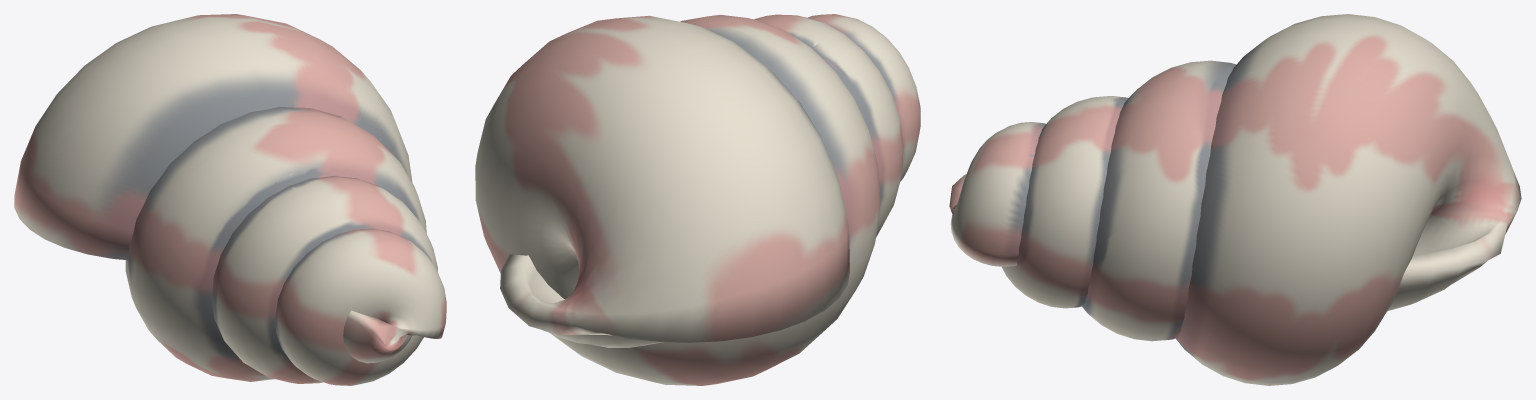
File: concha.fbx
The picture shows the model from 3 angles, left to right: view 1: azimuth 30°, elevation 25°; view 2: azimuth 150°, elevation 25°; view 3: azimuth 270°, elevation 25°; orthographic projection. The views are drawn at different scales.
Visible parts, largest first — view 1: Plane.002; view 2: Plane.002; view 3: Plane.002.
Boxes of the visible parts, <box> form: Plane.002: <box>14,14,446,385</box>; Plane.002: <box>475,14,920,385</box>; Plane.002: <box>949,14,1521,385</box>.
Size of the model in its own units: 134 by 126 by 197.
